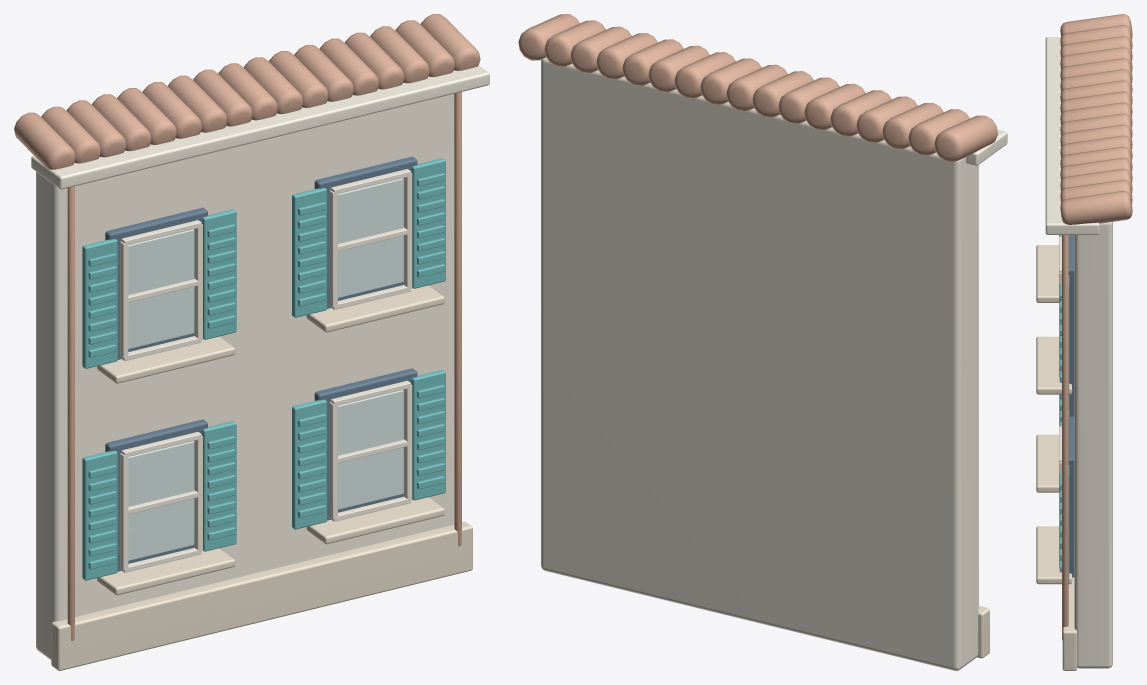
File: Facade_1.fbx
The picture shows the model from 3 angles, left to right: view 1: azimuth 30°, elevation 25°; view 2: azimuth 150°, elevation 25°; view 3: azimuth 270°, elevation 25°; orthographic projection. The views are drawn at different scales.
Visible parts, largest first — view 1: Plaster, StoneFoot, Cornice, Glass, Glass.001, Glass.002, Glass.003, RainPipe, RainPipe.001, Shutter.002, Shutter, Shutter.006 (+38 smaller); view 2: Plaster, RoofTile, RoofTile.001, RoofTile.004, RoofTile.006, RoofTile.008, RoofTile.009, RoofTile.011, RoofTile.012, RoofTile.014, RoofTile.015, RoofTile.003 (+6 smaller); view 3: Plaster, Cornice, RainPipe.001, RoofTile.016, Sill.003, Sill.002, Sill, Sill.001, StoneFoot, WindowRecess.002, WindowRecess.003, RoofTile.001 (+17 smaller).
Boxes of the visible parts, bbox=[...] form: Plaster: bbox=[36, 94, 454, 659]; StoneFoot: bbox=[51, 521, 472, 670]; Cornice: bbox=[31, 65, 489, 189]; Glass: bbox=[128, 441, 194, 560]; Glass.001: bbox=[128, 229, 194, 349]; Glass.002: bbox=[338, 390, 403, 509]; Glass.003: bbox=[338, 178, 403, 297]; RainPipe: bbox=[67, 186, 74, 640]; RainPipe.001: bbox=[454, 92, 461, 546]; Shutter.002: bbox=[82, 239, 117, 368]; Shutter: bbox=[82, 450, 117, 580]; Shutter.006: bbox=[292, 188, 326, 317]; Plaster: bbox=[541, 57, 978, 670]; RoofTile: bbox=[934, 115, 997, 161]; RoofTile.001: bbox=[908, 109, 969, 155]; RoofTile.004: bbox=[830, 90, 891, 136]; RoofTile.006: bbox=[778, 77, 839, 123]; RoofTile.008: bbox=[726, 64, 787, 111]; RoofTile.009: bbox=[700, 58, 761, 104]; RoofTile.011: bbox=[648, 45, 709, 92]; RoofTile.012: bbox=[622, 39, 683, 85]; RoofTile.014: bbox=[570, 26, 631, 73]; RoofTile.015: bbox=[544, 20, 605, 66]; RoofTile.003: bbox=[856, 96, 917, 142]; Plaster: bbox=[1074, 222, 1112, 668]; Cornice: bbox=[1045, 37, 1099, 234]; RainPipe.001: bbox=[1062, 235, 1068, 640]; RoofTile.016: bbox=[1060, 191, 1132, 224]; Sill.003: bbox=[1036, 336, 1072, 394]; Sill.002: bbox=[1036, 526, 1072, 584]; Sill: bbox=[1036, 434, 1059, 492]; Sill.001: bbox=[1036, 245, 1059, 302]; StoneFoot: bbox=[1062, 577, 1077, 670]; WindowRecess.002: bbox=[1068, 416, 1074, 577]; WindowRecess.003: bbox=[1068, 235, 1074, 387]; RoofTile.001: bbox=[1060, 25, 1132, 48].
Bounding box in the file's own units: 488 × 574 × 105.
